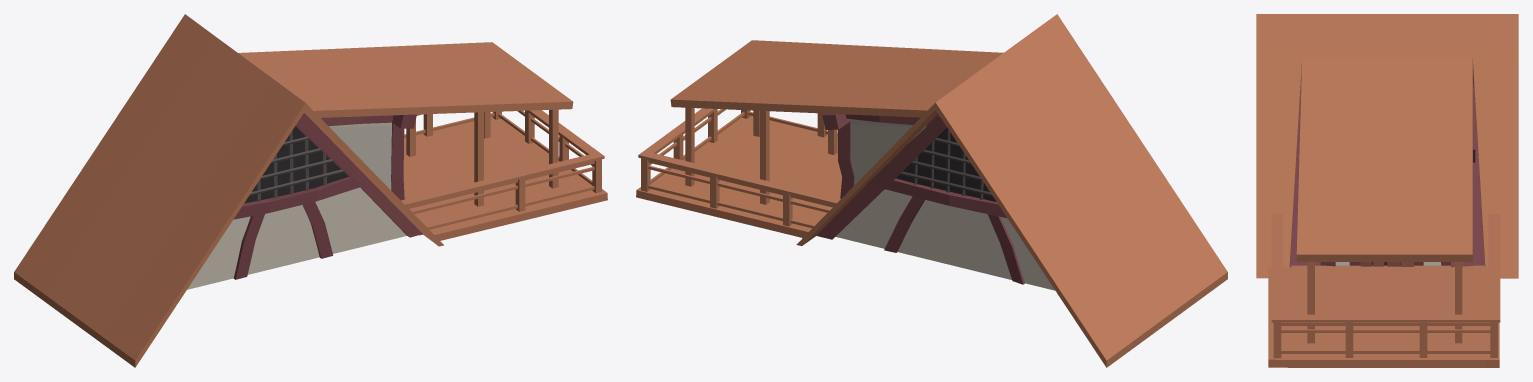
Rendered from Mountain_Roof_Large.fbx.
3 views of the same model, side by side, from view 1: azimuth 30°, elevation 25°; view 2: azimuth 150°, elevation 25°; view 3: azimuth 270°, elevation 25° (orthographic). The views are drawn at different scales.
Parts seen in each view (by area): view 1: Mountain_Roof_Small.001; view 2: Mountain_Roof_Small.001; view 3: Mountain_Roof_Small.001.
Part boxes in pixels (x1=…): Mountain_Roof_Small.001: x1=14, y1=14, x2=607, y2=367; Mountain_Roof_Small.001: x1=636, y1=14, x2=1227, y2=367; Mountain_Roof_Small.001: x1=1256, y1=14, x2=1518, y2=367.
Bounding box in the file's own units: 306 × 134 × 137.
